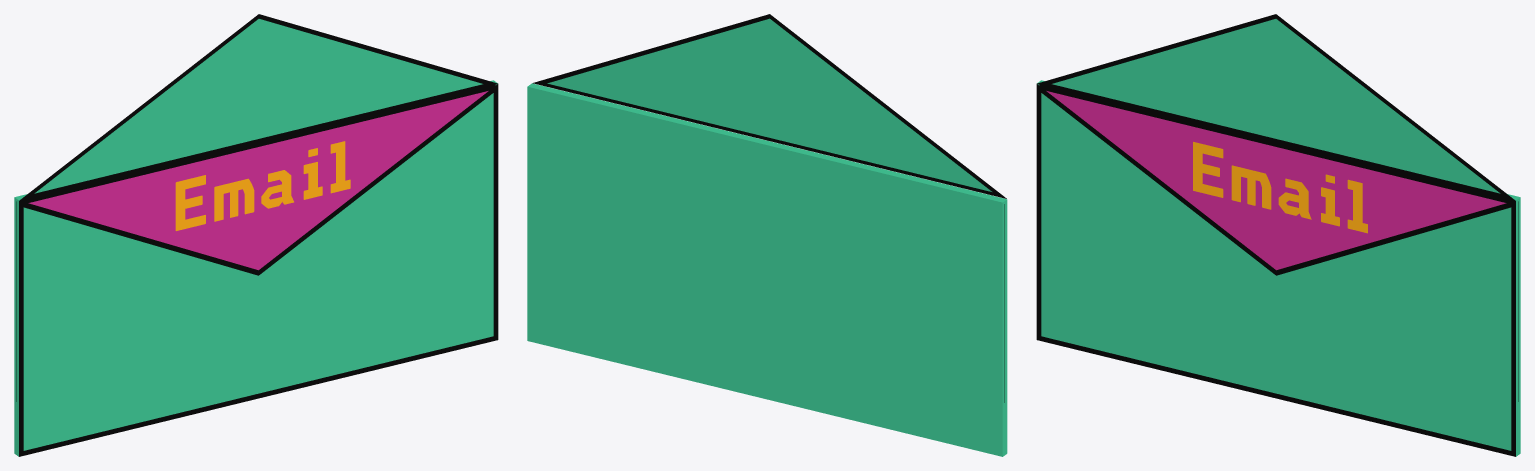
Rendered from envelope.gltf.
3 renders of one model, left to right at view 1: azimuth 30°, elevation 25°; view 2: azimuth 150°, elevation 25°; view 3: azimuth 330°, elevation 25°, orthographic.
Visible parts, largest first — view 1: envelope, flap, paper, Text; view 2: envelope, flap; view 3: envelope, flap, paper, Text.
Boxes of the visible parts, x1,y1,x2,y2 form: envelope: (14, 80, 498, 456); flap: (20, 14, 497, 200); paper: (16, 84, 495, 401); Text: (175, 141, 350, 230); envelope: (527, 83, 1007, 456); flap: (532, 14, 1006, 198); envelope: (1036, 80, 1520, 456); flap: (1037, 14, 1514, 200); paper: (1039, 84, 1518, 401); Text: (1193, 142, 1367, 233).
Size of the model in its own units: 3.92 by 3 by 0.0676.
